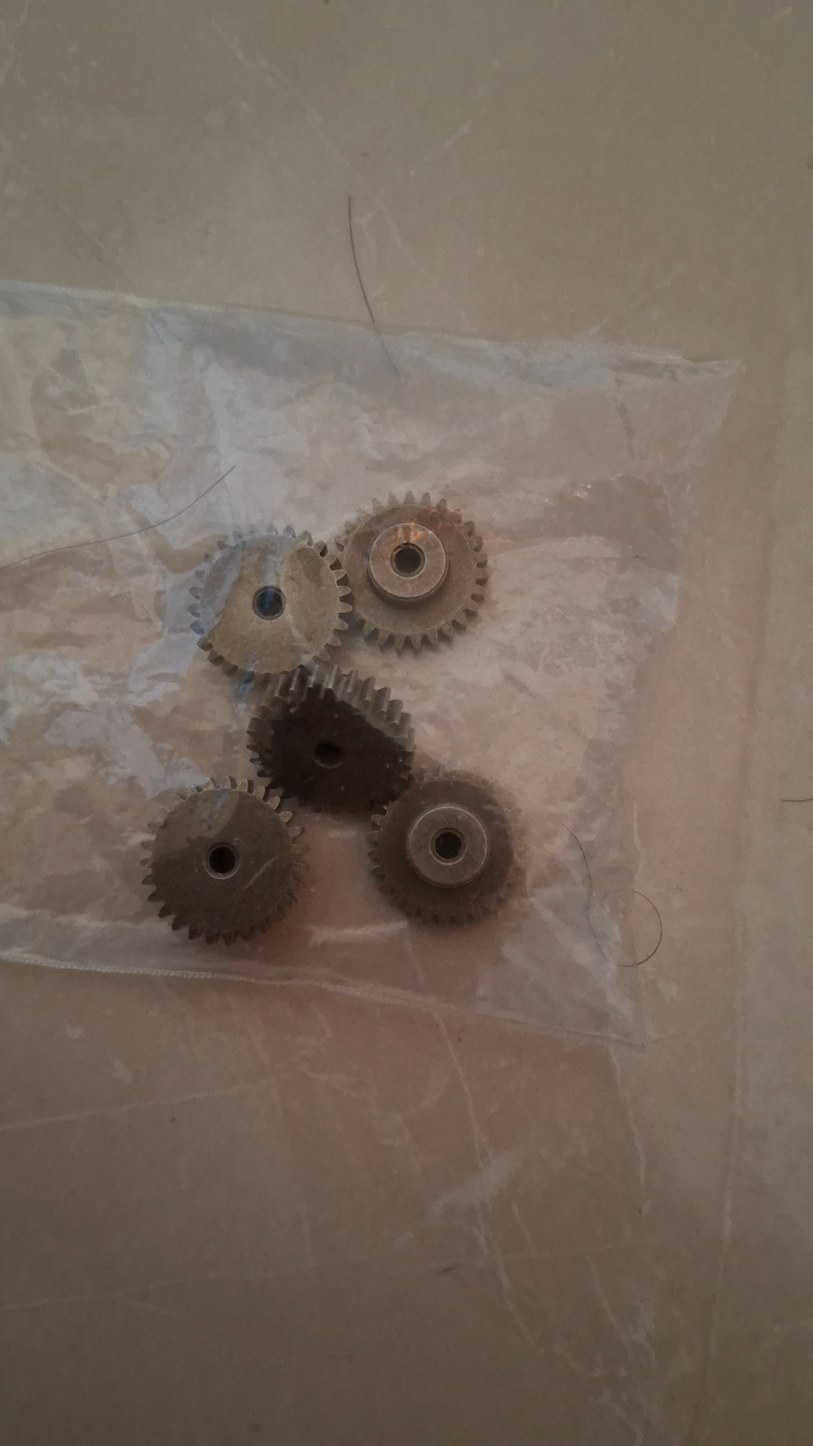spur gear: (143, 779, 301, 942), (189, 526, 349, 680), (250, 667, 413, 814), (336, 493, 487, 650), (370, 772, 515, 924)
